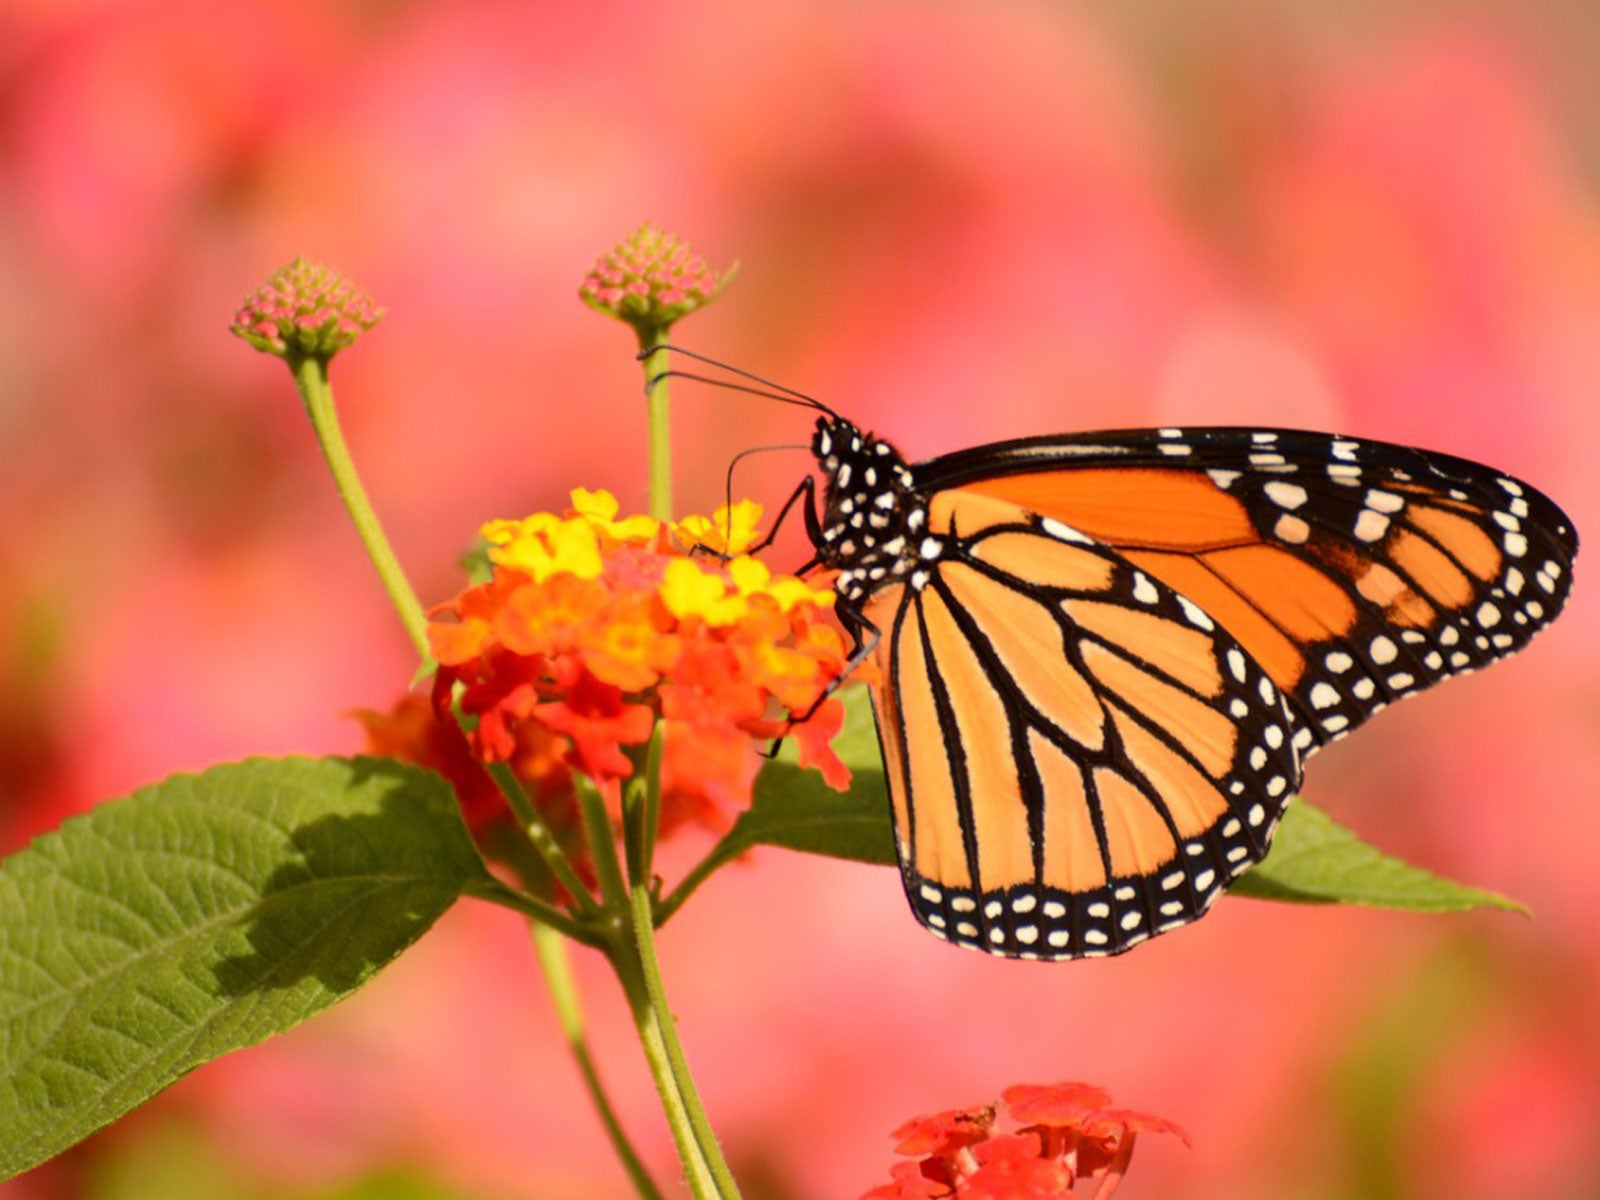Butterfly: (637, 323, 1581, 966)
